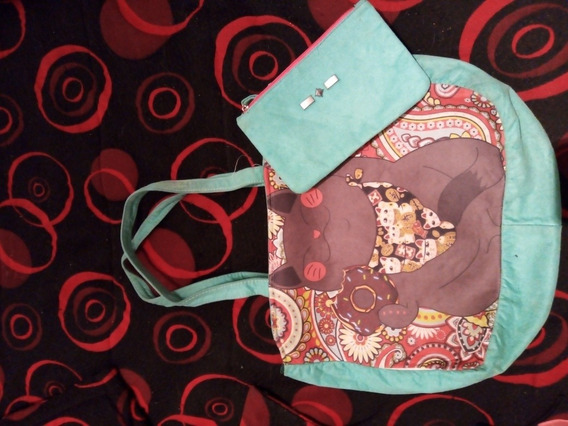cartera: (119, 54, 562, 396)
